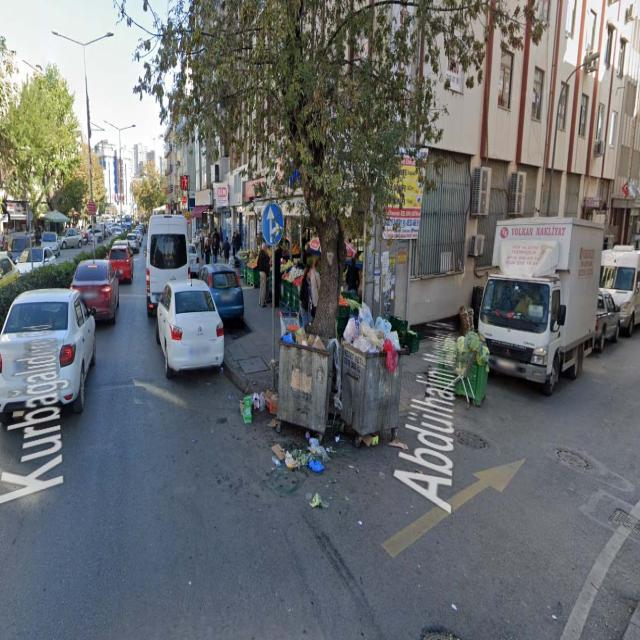ilerisag: (262, 202, 285, 247)
